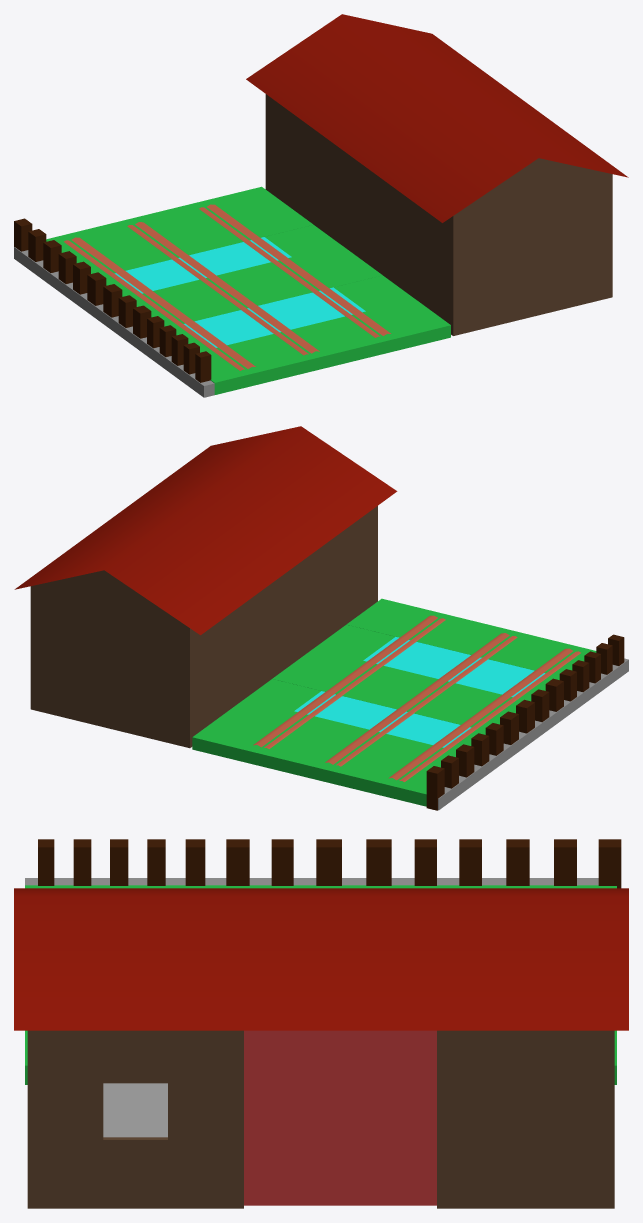
File: soviet-farm.fbx
3 renders of one model, top to bottom at view 1: azimuth 30°, elevation 25°; view 2: azimuth 150°, elevation 25°; view 3: azimuth 270°, elevation 25°, orthographic. The views are drawn at different scales.
Parts seen in each view (by area): view 1: Box001, Plane001, Box002, Plane005, Box003, Box004, Plane003, Plane004, Plane002; view 2: Box001, Plane001, Box002, Plane005, Box003, Box004, Plane004, Plane003, Plane002; view 3: Plane001, Box001, Plane006, Box003, Plane007, Box004, Box002.
Boxes of the visible parts, x1,y1,x2,y2 form: Box001: [265, 94, 612, 335]; Plane001: [246, 14, 628, 222]; Box002: [46, 186, 450, 394]; Plane005: [114, 237, 365, 347]; Box003: [14, 218, 211, 382]; Box004: [14, 247, 214, 397]; Plane003: [127, 222, 319, 355]; Plane004: [199, 204, 390, 337]; Plane002: [64, 237, 255, 370]; Box001: [30, 506, 377, 748]; Plane001: [14, 426, 397, 635]; Box002: [192, 598, 596, 806]; Plane005: [294, 637, 545, 747]; Box003: [426, 634, 624, 810]; Box004: [438, 658, 628, 810]; Plane004: [253, 615, 445, 748]; Plane003: [325, 633, 517, 766]; Plane002: [388, 648, 580, 781]; Plane001: [14, 888, 628, 1030]; Box001: [27, 1030, 614, 1208]; Plane006: [244, 1030, 436, 1205]; Box003: [38, 839, 621, 888]; Plane007: [103, 1083, 167, 1137]; Box004: [25, 878, 598, 885]; Box002: [25, 885, 616, 1084].
Bounding box in the file's own units: 51.73 × 18.95 × 41.82.
